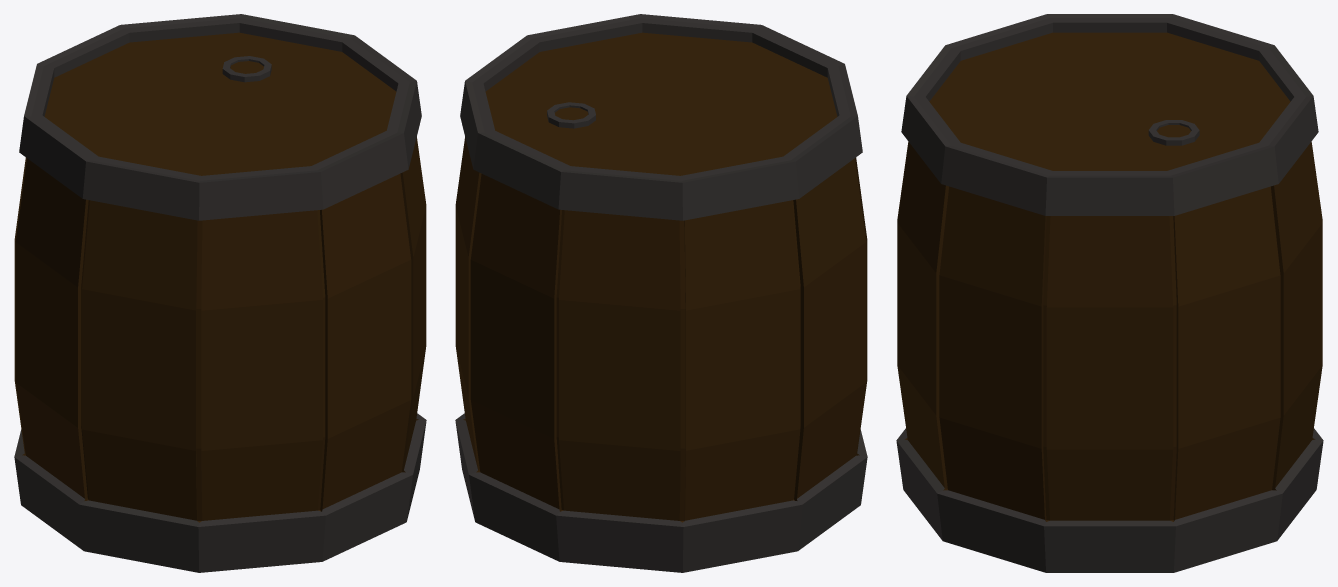
The model's file is Barrel1.glb.
The picture shows the model from 3 angles, left to right: view 1: azimuth 30°, elevation 25°; view 2: azimuth 150°, elevation 25°; view 3: azimuth 270°, elevation 25°; orthographic projection.
Visible parts, largest first — view 1: Barrel_1; view 2: Barrel_1; view 3: Barrel_1.
Part boxes in pixels (x1=…): Barrel_1: x1=14, y1=14, x2=426, y2=572; Barrel_1: x1=455, y1=14, x2=867, y2=572; Barrel_1: x1=896, y1=14, x2=1323, y2=572.
Size of the model in its own units: 0.5019 by 0.5371 by 0.5276.
